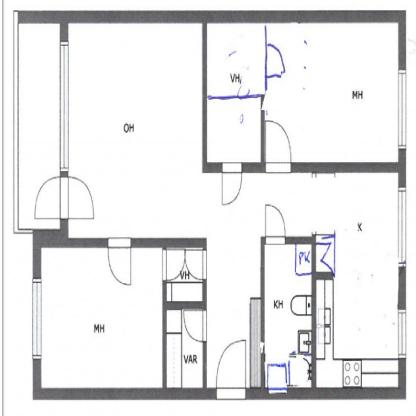door: (68, 23, 397, 389), (266, 20, 399, 160), (41, 246, 162, 390), (18, 24, 59, 231), (263, 246, 313, 387), (208, 22, 266, 98), (206, 98, 262, 163), (166, 309, 203, 387), (166, 248, 202, 300)
window: (32, 175, 95, 224), (216, 335, 246, 399), (263, 119, 290, 173), (107, 238, 132, 288), (221, 162, 243, 208), (264, 202, 286, 246), (183, 308, 207, 344), (162, 250, 185, 281), (185, 248, 206, 281)
zone: (60, 42, 68, 170), (31, 278, 40, 358), (398, 186, 405, 264), (397, 310, 405, 360), (400, 70, 405, 150)
